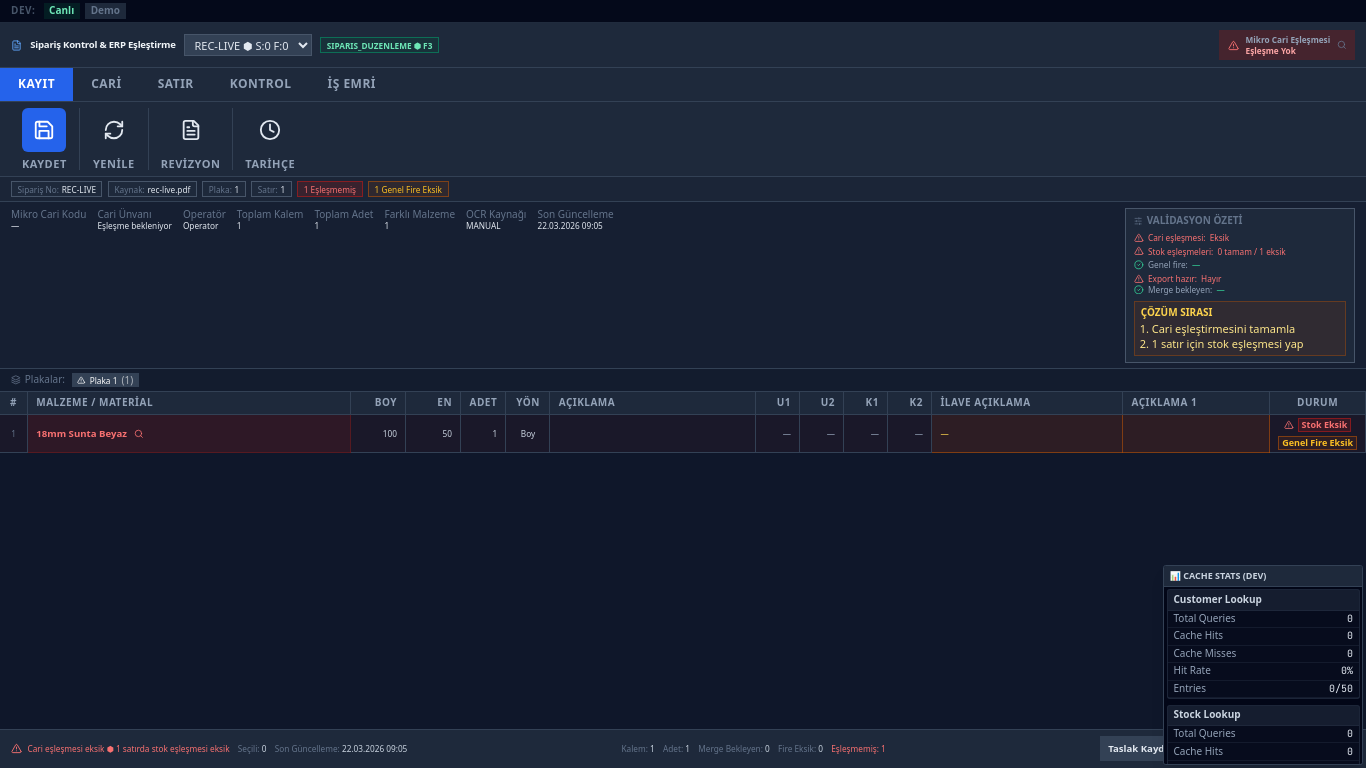
Test: SiparisKontrolPage › canlı cari lookup düşer ve yerel öneri de kalmazsa fallback boş mesajını gösterir
Click the tab "CARİ" at (106, 84), box [73,68,140,101]
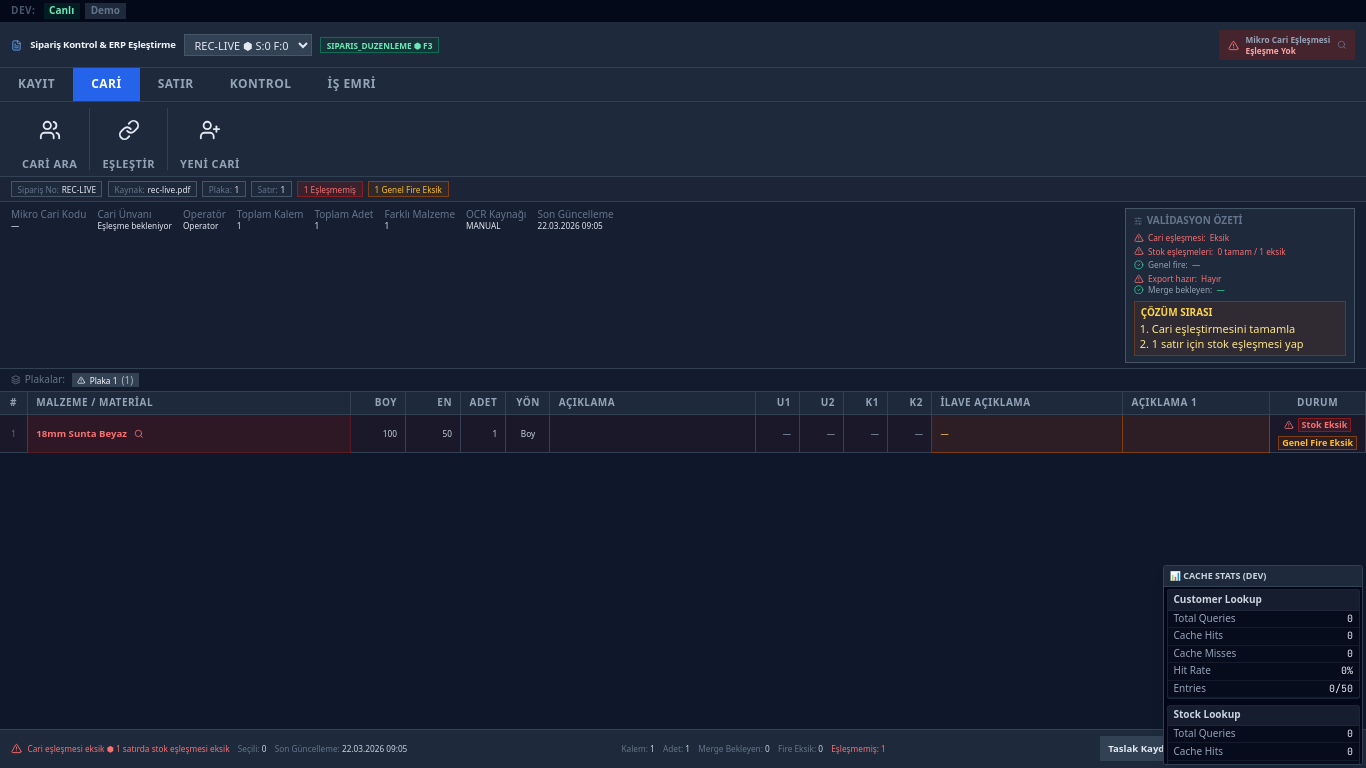
Click the button named "Cari Ara" at (50, 130), box [28,108,72,152]
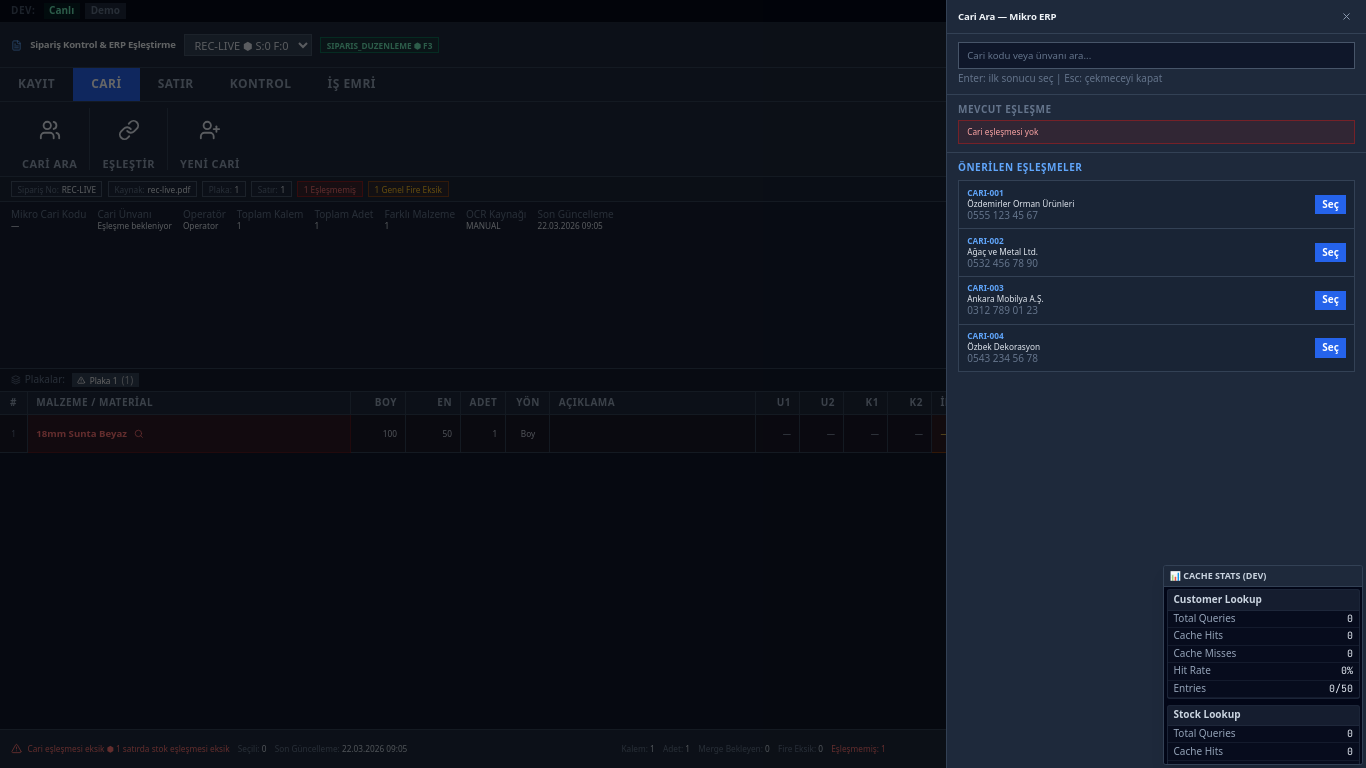
Type "ZZZ-404" into the search field with placeholder "Cari kodu veya ünvanı ara..." at (1156, 56), box [958,42,1355,69]
Wait 300 ms
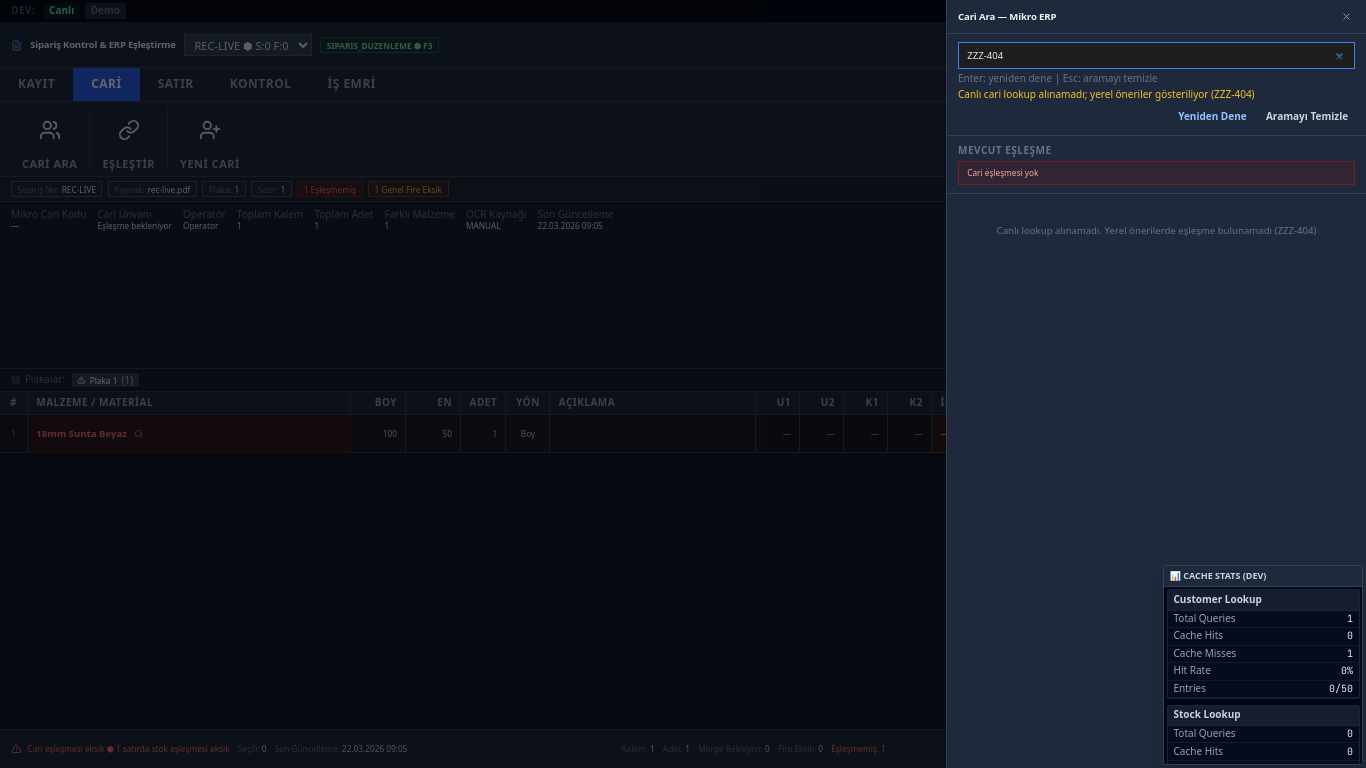
Check: the text "Yerel önerilerde eşleşme bulunamadı" is shown, box [997,224,1316,237]
